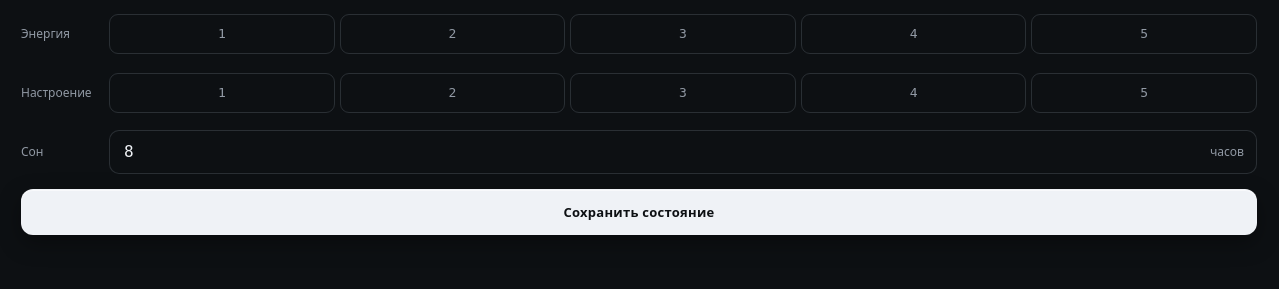
it: DailyStateForm › rejects a negative sleep value before submission
Replace the text in the number field labelled "Сон часов" with "-1" at x=666, y=152, box [122,139,1210,165]
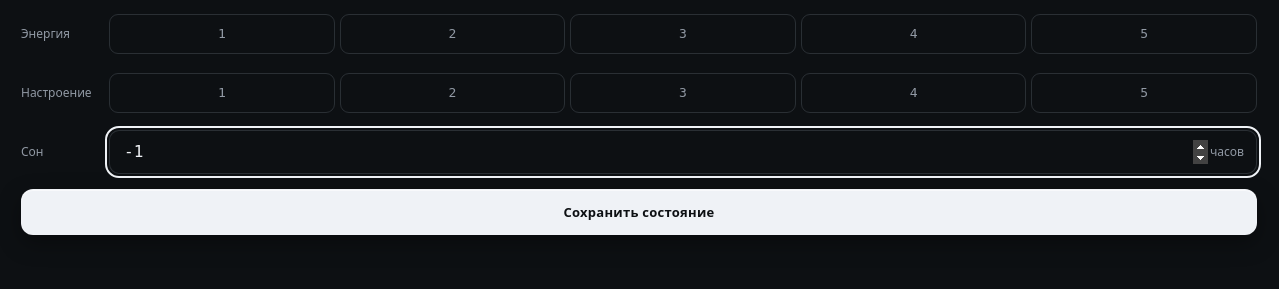
Click the button "Сохранить состояние" at x=639, y=212, box [21,189,1257,235]
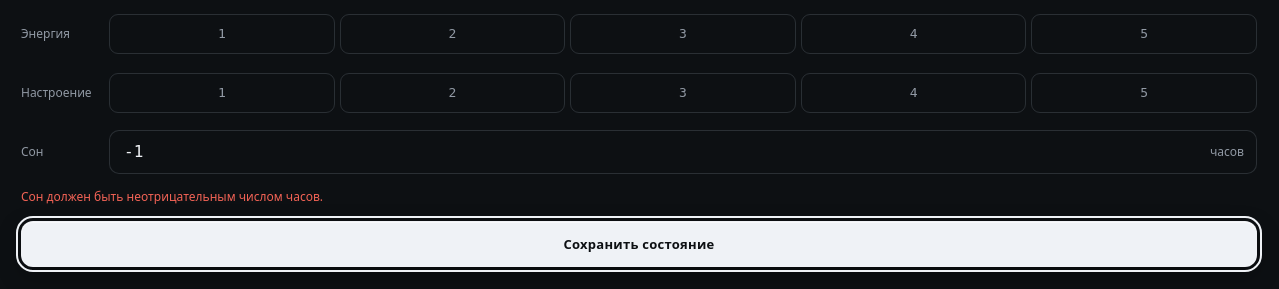
Check: the message shows "неотрицательным", box [21,188,323,205]
